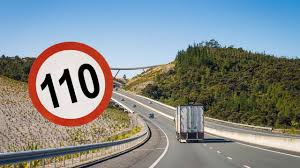Speed_limit_110km: (27, 42, 113, 125)
